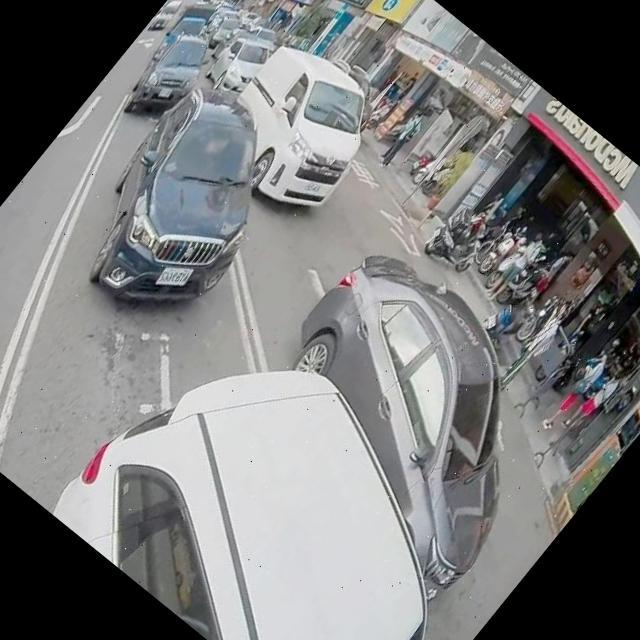person: (534, 346, 614, 438), (499, 302, 578, 393), (558, 359, 633, 446), (482, 229, 552, 308), (378, 106, 433, 170), (528, 250, 575, 304)
